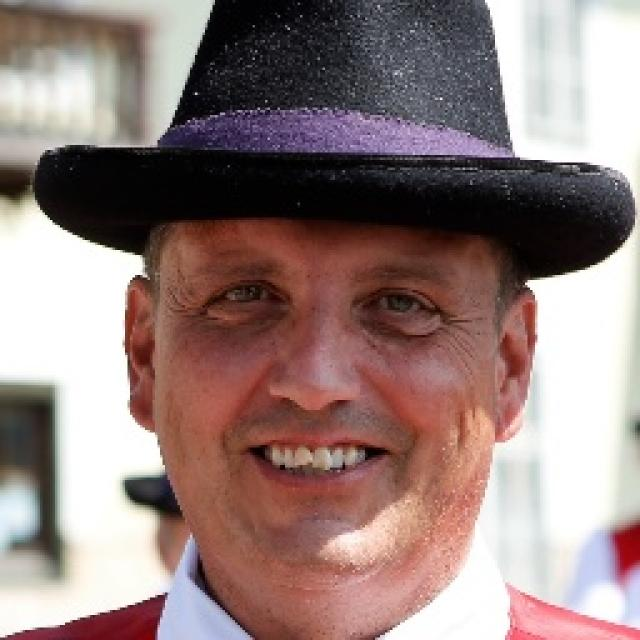earlobe: (492, 286, 538, 443), (122, 274, 158, 434)
